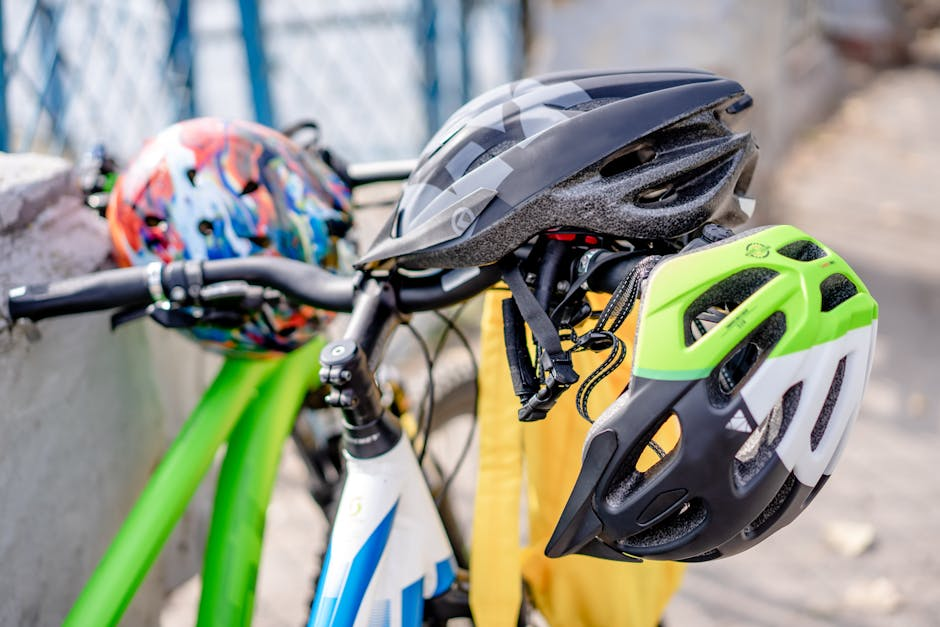safety_helmet: (543, 222, 880, 566), (354, 65, 761, 276), (105, 115, 357, 358)
